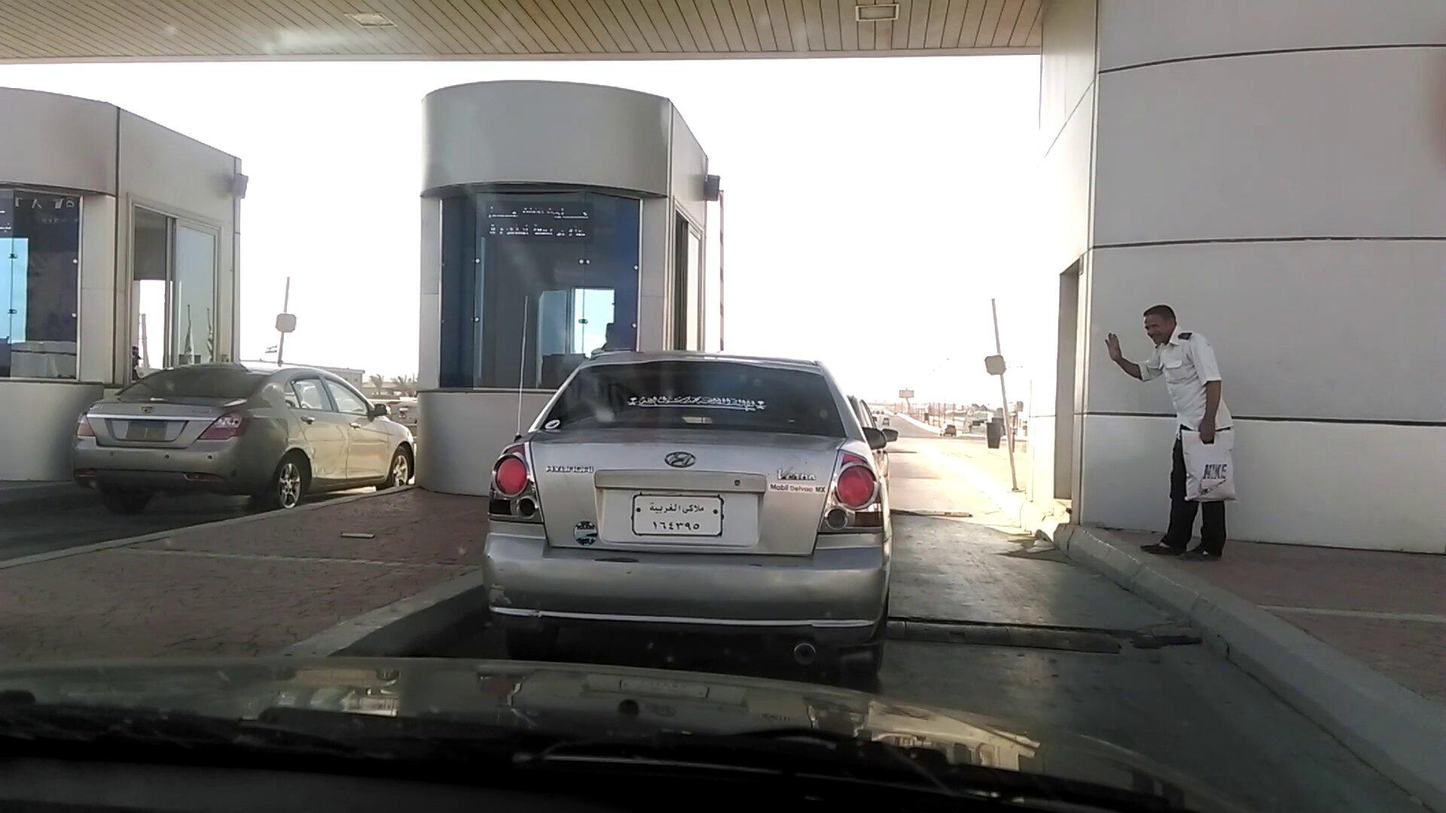Bump: (874, 610, 1216, 677)
